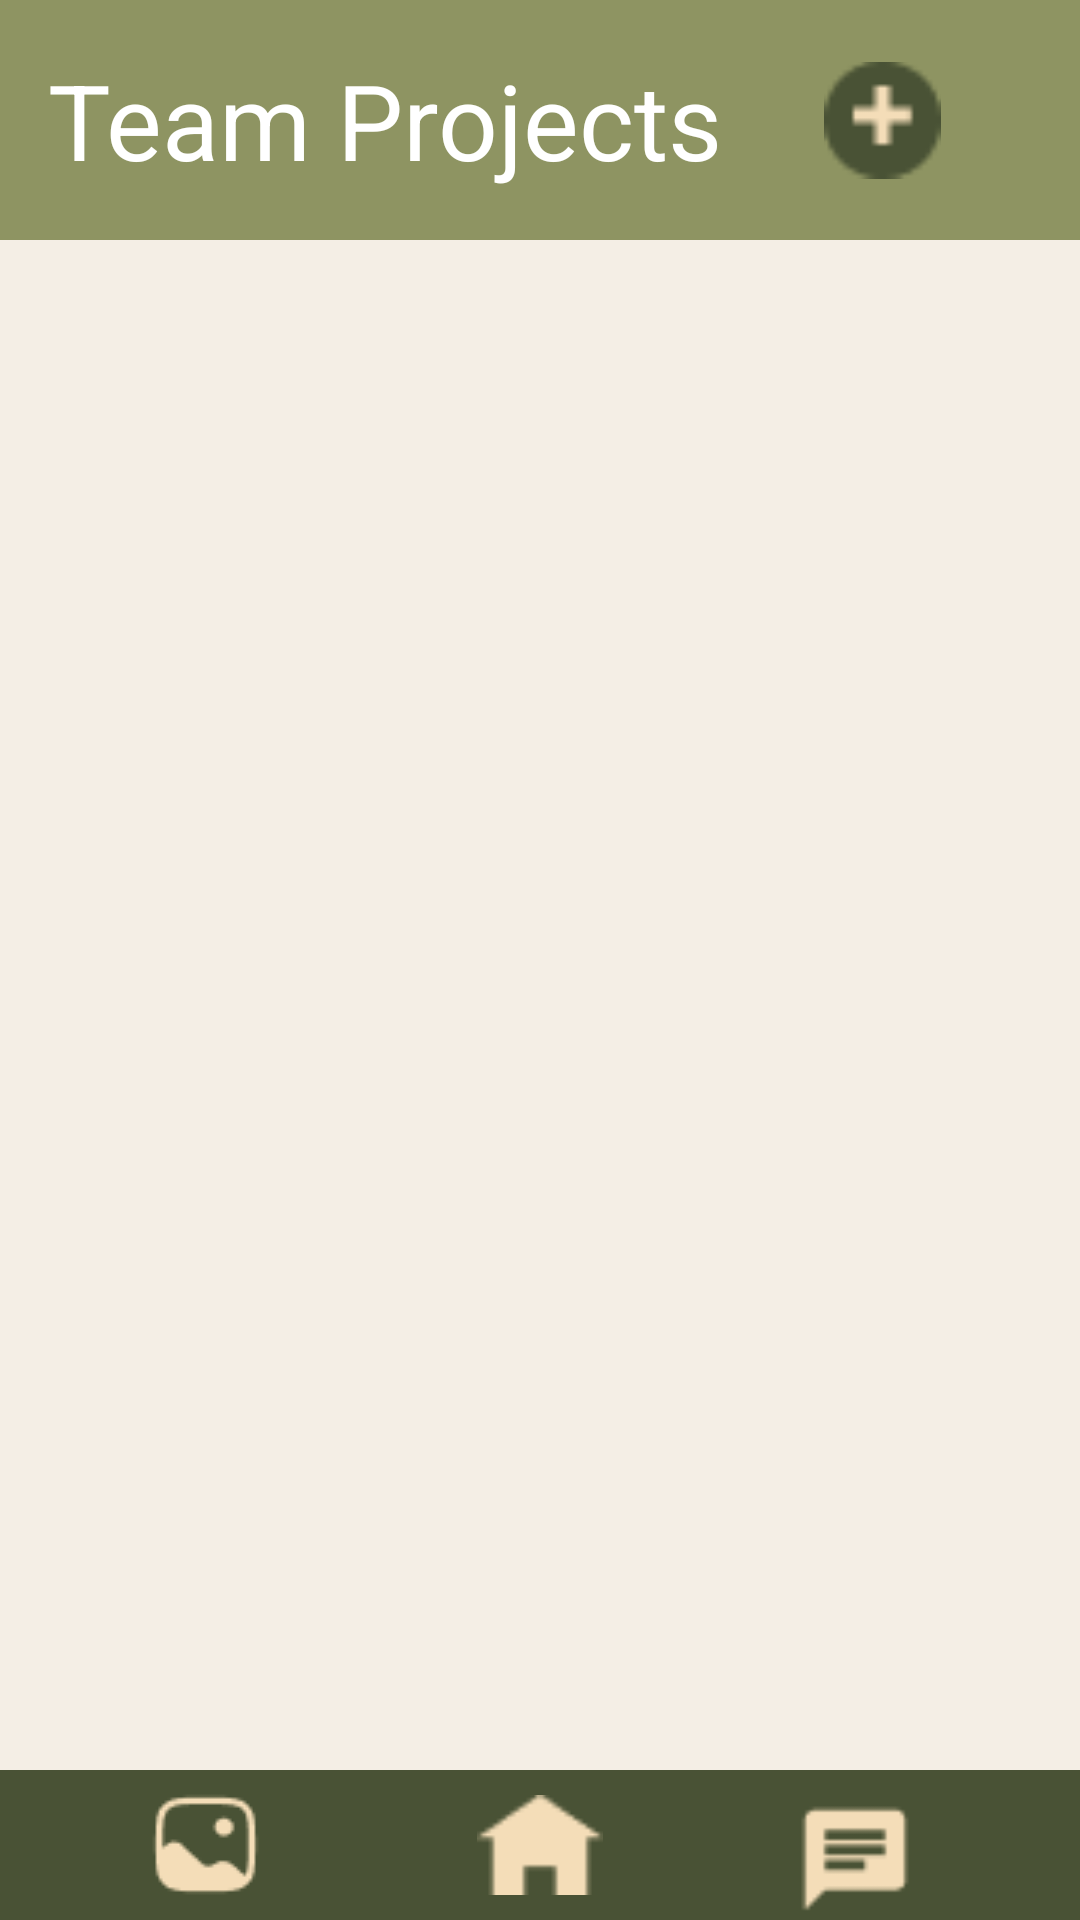

Where to tap for icons on this 1080 x 1920 app screen, as (x,y):
add: (882,120)
chat: (855,1859)
home: (539,1845)
